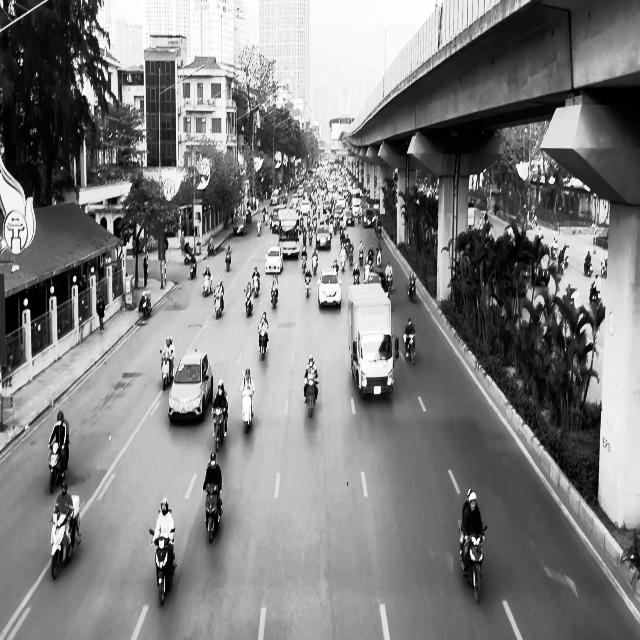car: (168, 349, 213, 423), (317, 267, 342, 308), (264, 246, 284, 274), (233, 216, 246, 235)
motorbike: (50, 496, 81, 580), (458, 519, 487, 603), (149, 528, 176, 606), (48, 439, 68, 494), (204, 484, 222, 544), (212, 403, 228, 452), (304, 373, 318, 418), (159, 349, 174, 391), (241, 390, 254, 434), (403, 332, 416, 364), (258, 327, 268, 360), (141, 291, 152, 318), (243, 288, 253, 317), (214, 291, 224, 319), (407, 279, 416, 303), (270, 283, 278, 308), (225, 252, 231, 272)
truck: (347, 282, 398, 400)
